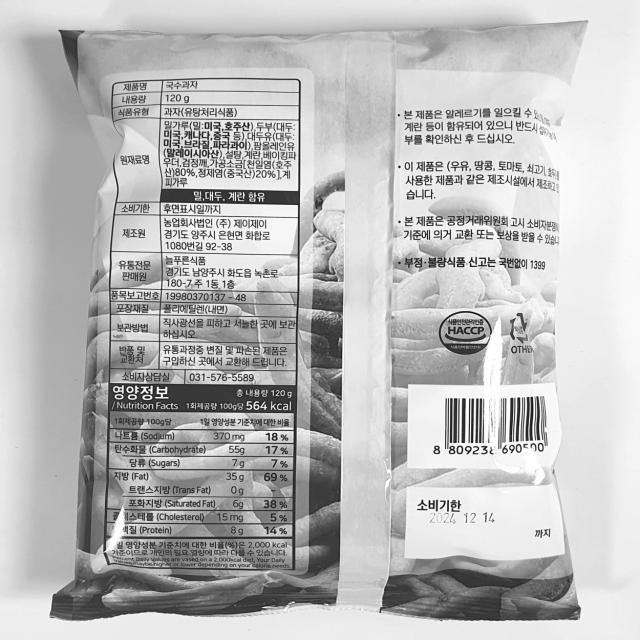Nutrition Label: (105, 377, 302, 576)
